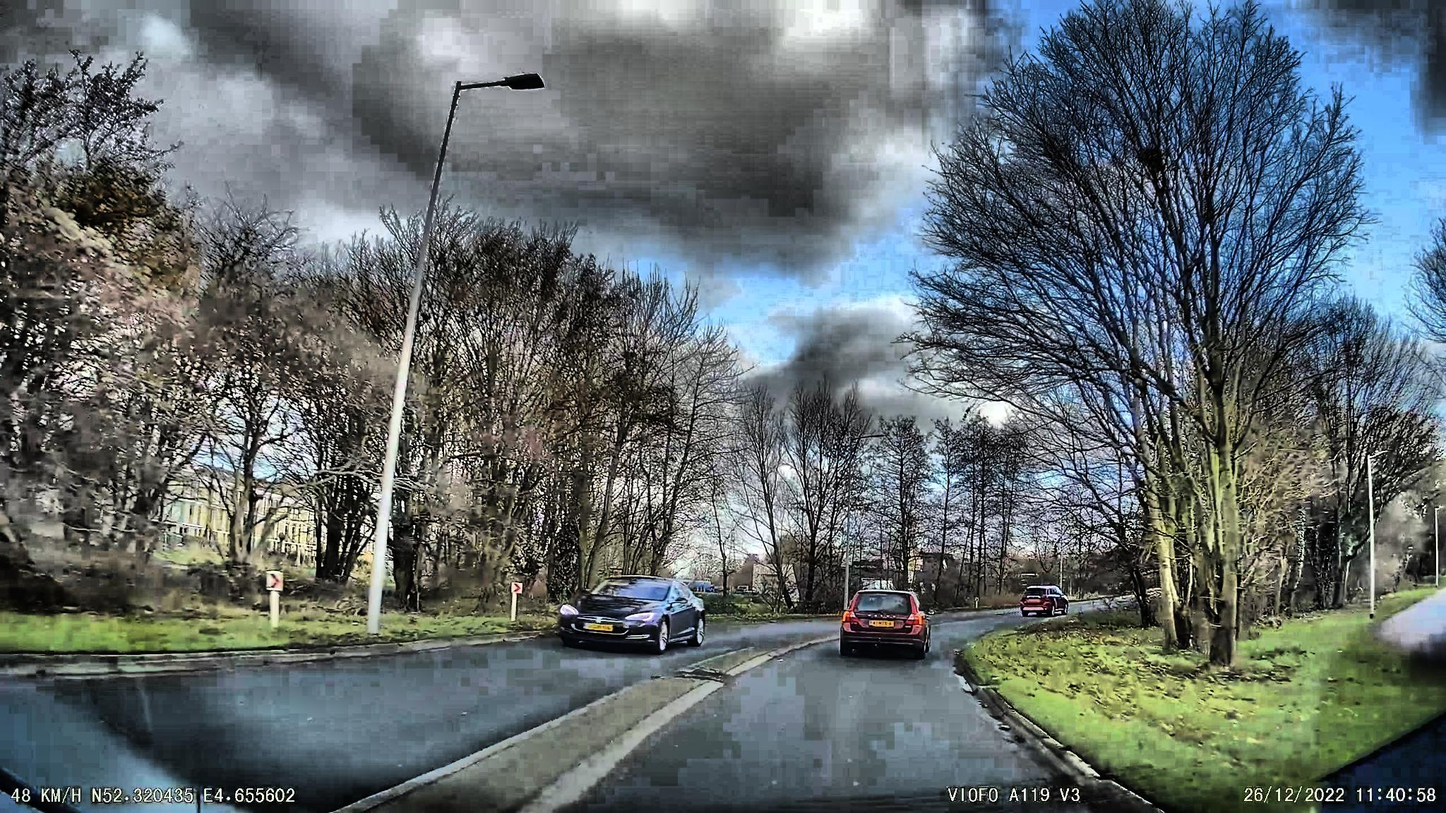Roads: (0, 618, 1160, 813)
